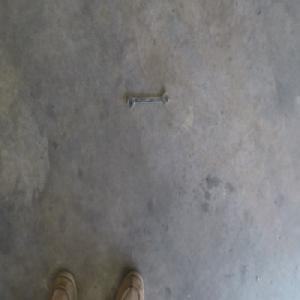Wrench: (126, 91, 169, 109)
